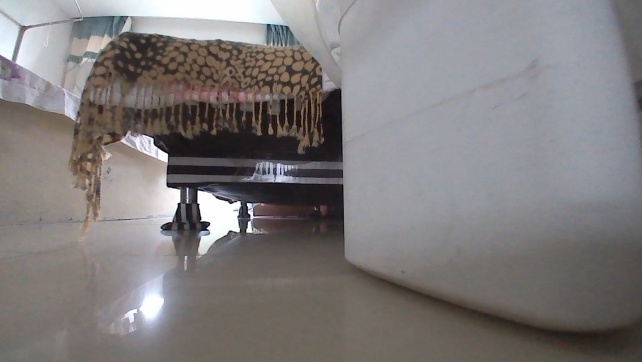bed1: (0, 35, 169, 226)
sofa1: (68, 23, 344, 244)
